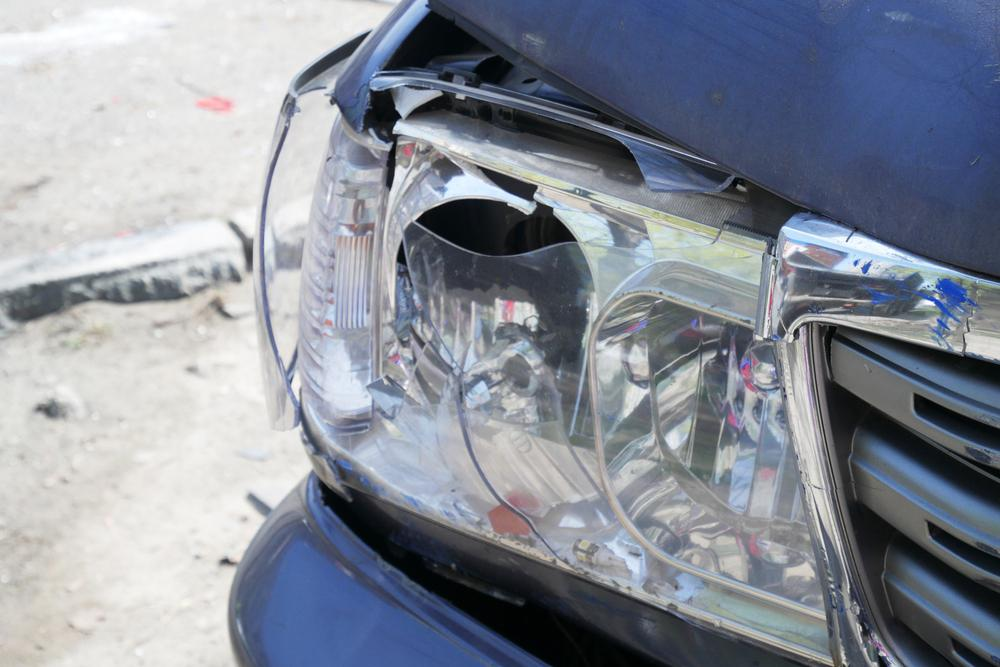crack: (958, 279, 983, 357)
lamp broken: (285, 13, 843, 665)
